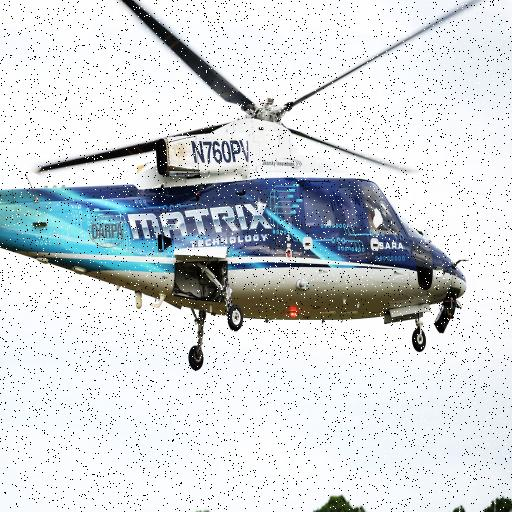helicopter: (1, 1, 512, 371)
